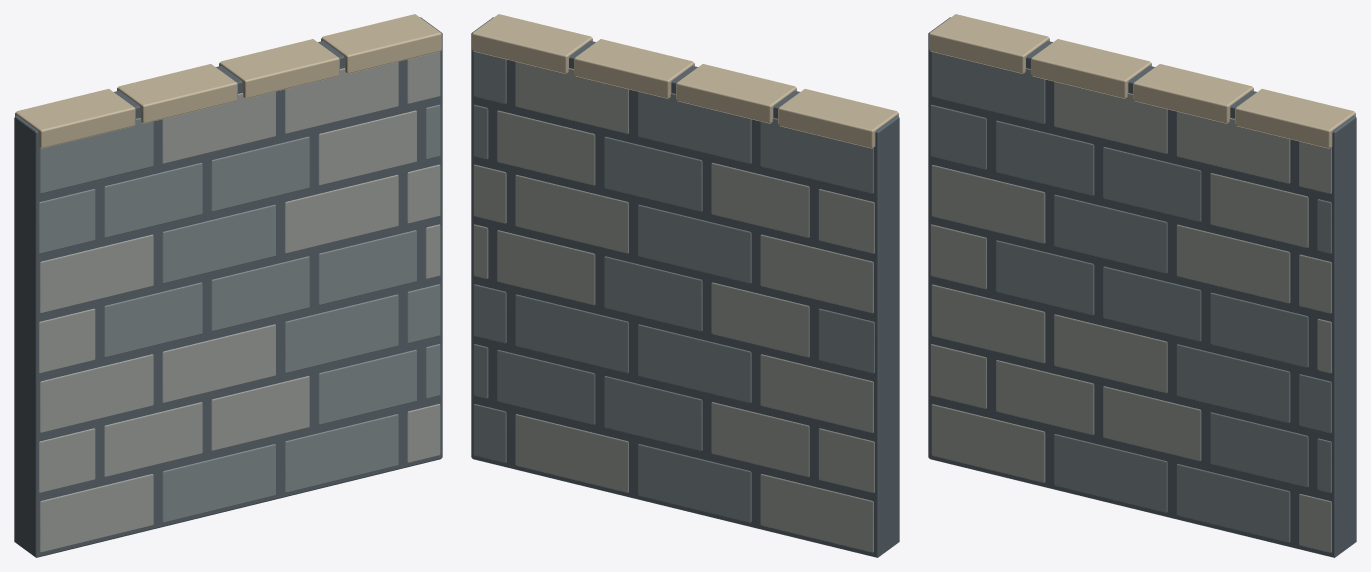
File: SM_Wall_4m.glb
3 views of the same model, side by side, from view 1: azimuth 30°, elevation 25°; view 2: azimuth 150°, elevation 25°; view 3: azimuth 330°, elevation 25° (orthographic).
Visible parts, largest first — view 1: SM_Wall_4m; view 2: SM_Wall_4m; view 3: SM_Wall_4m.
Part boxes in pixels (bbox=[...]): SM_Wall_4m: bbox=[14, 14, 442, 557]; SM_Wall_4m: bbox=[471, 14, 899, 557]; SM_Wall_4m: bbox=[928, 14, 1356, 557].
Bounding box in the file's own units: 4 × 4.02 × 0.46.
